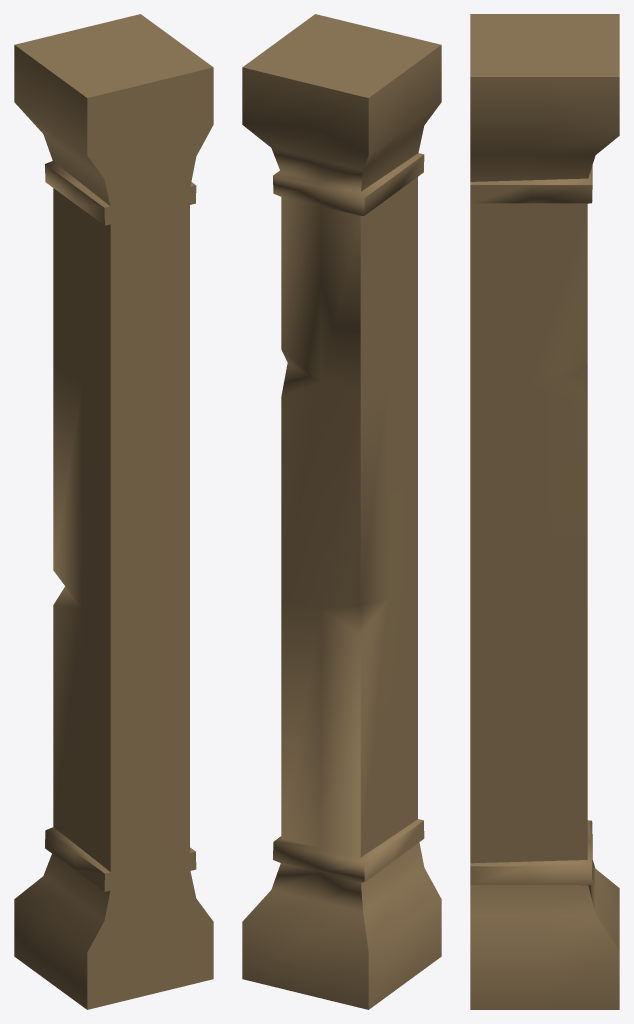
File: Pillar.fbx
The picture shows the model from 3 angles, left to right: view 1: azimuth 30°, elevation 25°; view 2: azimuth 150°, elevation 25°; view 3: azimuth 270°, elevation 25°; orthographic projection. The views are drawn at different scales.
Parts seen in each view (by area): view 1: Pillar.001; view 2: Pillar.001; view 3: Pillar.001.
Part boxes in pixels (x1=…): Pillar.001: x1=14, y1=14, x2=213, y2=1009; Pillar.001: x1=242, y1=14, x2=441, y2=1009; Pillar.001: x1=470, y1=14, x2=619, y2=1009.
Bounding box in the file's own units: 41.11 × 284 × 41.11.
